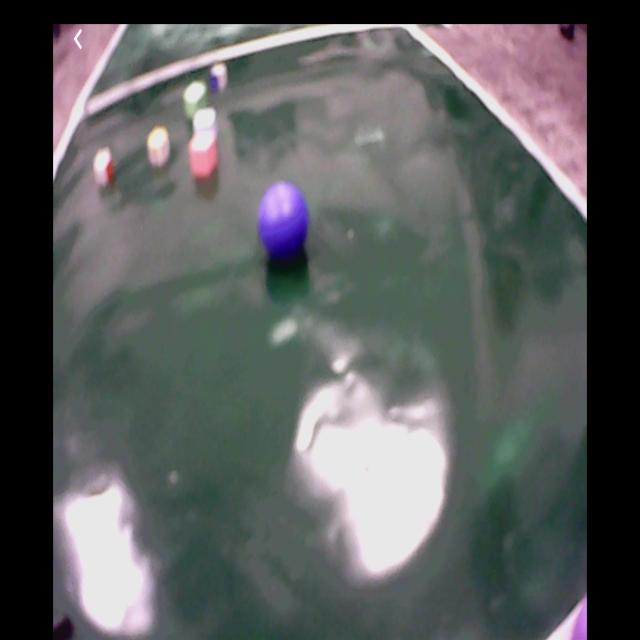ball: (260, 180, 310, 259), (572, 599, 588, 640)
